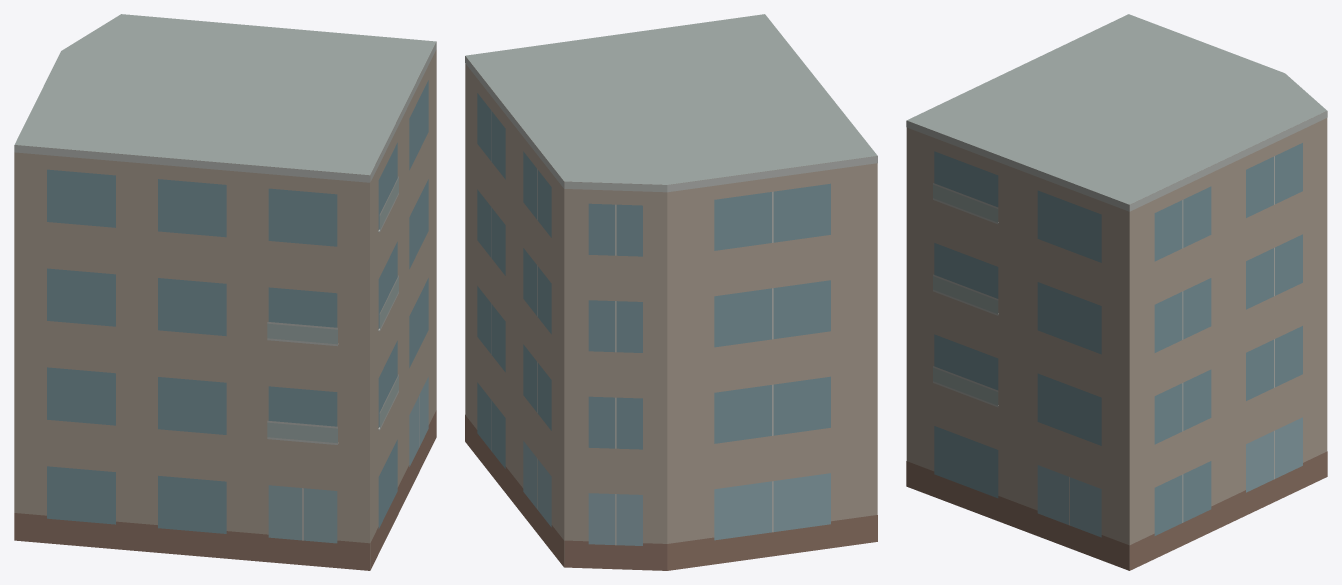
The model's file is survey-upis-32867618.glb.
The picture shows the model from 3 angles, left to right: view 1: azimuth 30°, elevation 25°; view 2: azimuth 150°, elevation 25°; view 3: azimuth 270°, elevation 25°; orthographic projection. The views are drawn at different scales.
Parts seen in each view (by area): view 1: survey-upis-32867618.tmp; view 2: survey-upis-32867618.tmp; view 3: survey-upis-32867618.tmp.
Boxes of the visible parts, box(x1,y1,x2,y2) form: survey-upis-32867618.tmp: box(14, 14, 436, 570); survey-upis-32867618.tmp: box(465, 14, 877, 570); survey-upis-32867618.tmp: box(906, 14, 1327, 570).
Size of the model in its own units: 14.32 by 12.8 by 13.35.
